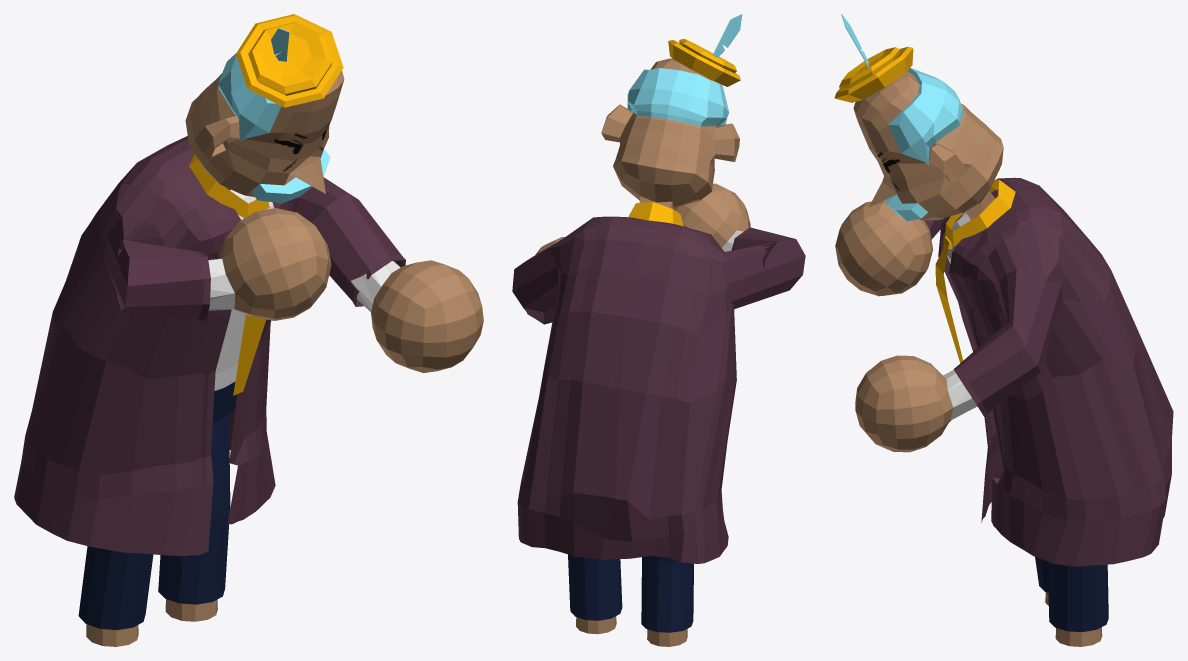
The model's file is scribe.glb.
3 renders of one model, left to right at view 1: azimuth 30°, elevation 25°; view 2: azimuth 150°, elevation 25°; view 3: azimuth 270°, elevation 25°, orthographic. The views are drawn at different scales.
Visible parts, largest first — view 1: Roundcube.001; view 2: Roundcube.001; view 3: Roundcube.001.
Part boxes in pixels (x1,y1,x2,y2): Roundcube.001: (14, 14, 483, 646); Roundcube.001: (512, 14, 805, 646); Roundcube.001: (834, 14, 1173, 646).
Bounding box in the file's own units: 1.12 × 2.13 × 1.09.
Materials: 6 (1 with a texture image).
